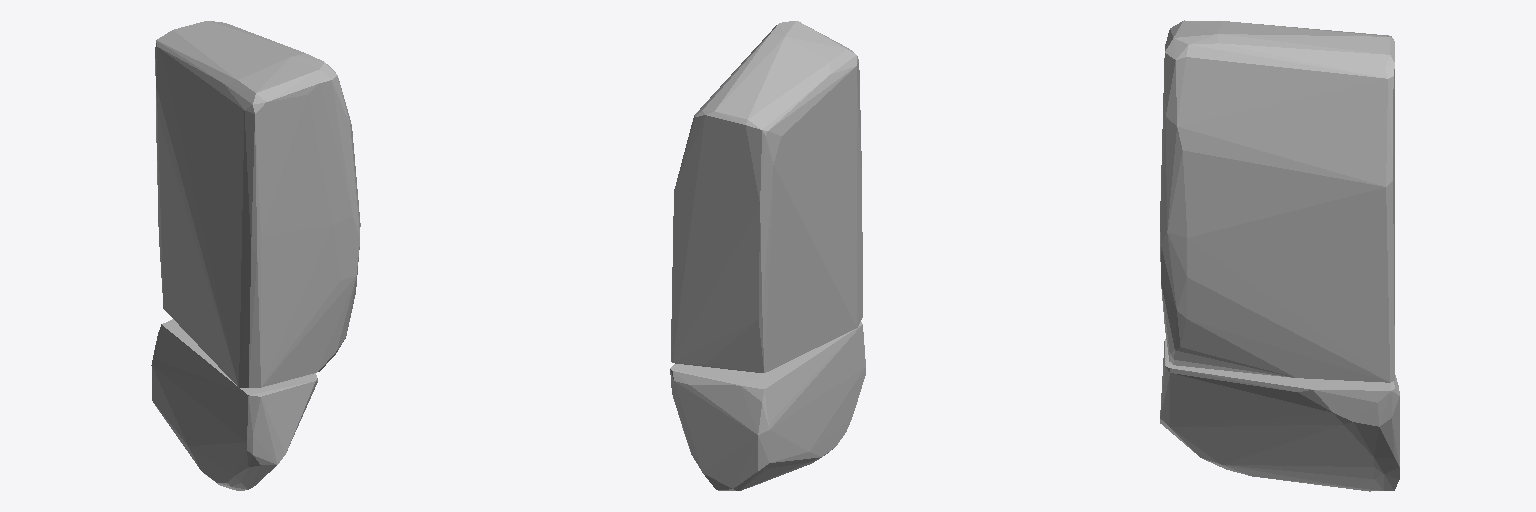
robot.urdf — root:
<robot name="root">
  <link name="link_rock27_convex_piece_0">
    <inertial>
      <origin rpy="0 0 0" xyz="0 0 0"/>
      <mass value="4.29E+04"/>
      <inertia ixx="-2.57E+09" ixy="1.79E+08" ixz="-1.51E+09" iyy="-2.65E+09" iyz="9.50E+08" izz="-3.29E+08"/>
    </inertial>
    <visual>
      <origin rpy="0 0 0" xyz="0 0 0"/>
      <geometry>
        <mesh filename="rock27_convex_piece_0.obj" scale="1.0000E+00 1.0000E+00 1.0000E+00"/>
      </geometry>
      <material name="">
        <color rgba="7.50E-01 7.50E-01 7.50E-01 1"/>
      </material>
    </visual>
    <collision>
      <origin rpy="0 0 0" xyz="0 0 0"/>
      <geometry>
        <mesh filename="rock27_convex_piece_0.obj" scale="1.0000E+00 1.0000E+00 1.0000E+00"/>
      </geometry>
    </collision>
  </link>
  <link name="link_rock27_convex_piece_1">
    <inertial>
      <origin rpy="0 0 0" xyz="0 0 0"/>
      <mass value="1.61E+05"/>
      <inertia ixx="2.79E+09" ixy="-2.25E+08" ixz="1.43E+09" iyy="2.74E+09" iyz="-9.66E+08" izz="4.48E+08"/>
    </inertial>
    <visual>
      <origin rpy="0 0 0" xyz="0 0 0"/>
      <geometry>
        <mesh filename="rock27_convex_piece_1.obj" scale="1.0000E+00 1.0000E+00 1.0000E+00"/>
      </geometry>
      <material name="">
        <color rgba="7.50E-01 7.50E-01 7.50E-01 1"/>
      </material>
    </visual>
    <collision>
      <origin rpy="0 0 0" xyz="0 0 0"/>
      <geometry>
        <mesh filename="rock27_convex_piece_1.obj" scale="1.0000E+00 1.0000E+00 1.0000E+00"/>
      </geometry>
    </collision>
  </link>
  <joint name="link_rock27_convex_piece_1_joint" type="fixed">
    <origin rpy="0 0 0" xyz="0 0 0"/>
    <parent link="link_rock27_convex_piece_0"/>
    <child link="link_rock27_convex_piece_1"/>
  </joint>
</robot>

--- Facts derived from the render (not from the file) ---
3 views of the same robot in one strip: view 1: azimuth 30°, elevation 25°; view 2: azimuth 150°, elevation 25°; view 3: azimuth 270°, elevation 25° (orthographic).
Model root with 2 links and 1 joints (1 fixed), rooted at link_rock27_convex_piece_0, posed every joint at zero.
Links seen in each view (by area): view 1: link_rock27_convex_piece_1, link_rock27_convex_piece_0; view 2: link_rock27_convex_piece_1, link_rock27_convex_piece_0; view 3: link_rock27_convex_piece_1, link_rock27_convex_piece_0.
Boxes of the visible links, x1,y1,x2,y2 form: link_rock27_convex_piece_1: (155,21,360,387); link_rock27_convex_piece_0: (151,319,317,490); link_rock27_convex_piece_1: (671,21,862,372); link_rock27_convex_piece_0: (670,322,865,490); link_rock27_convex_piece_1: (1160,20,1394,382); link_rock27_convex_piece_0: (1160,339,1399,491).
Bounding box of the posed robot: 37.54 × 62.65 × 134 m (x, y, z).
2 mesh visuals loaded from 2 distinct referenced files (2 OBJ).
